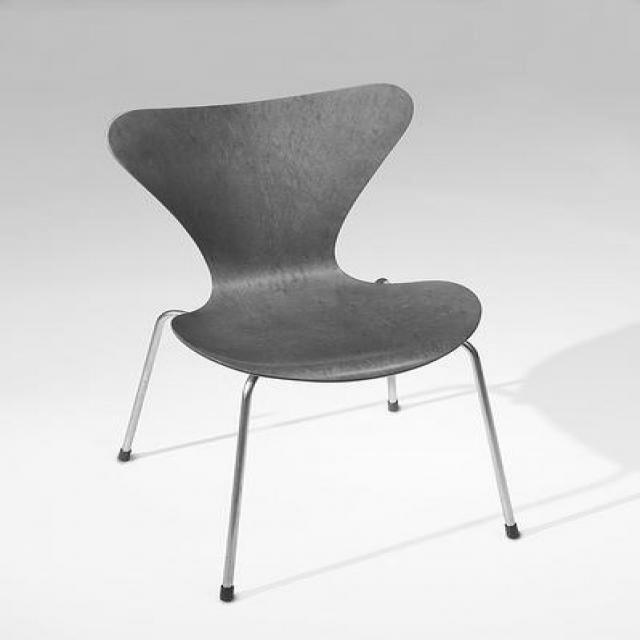chair: (106, 82, 522, 602)
